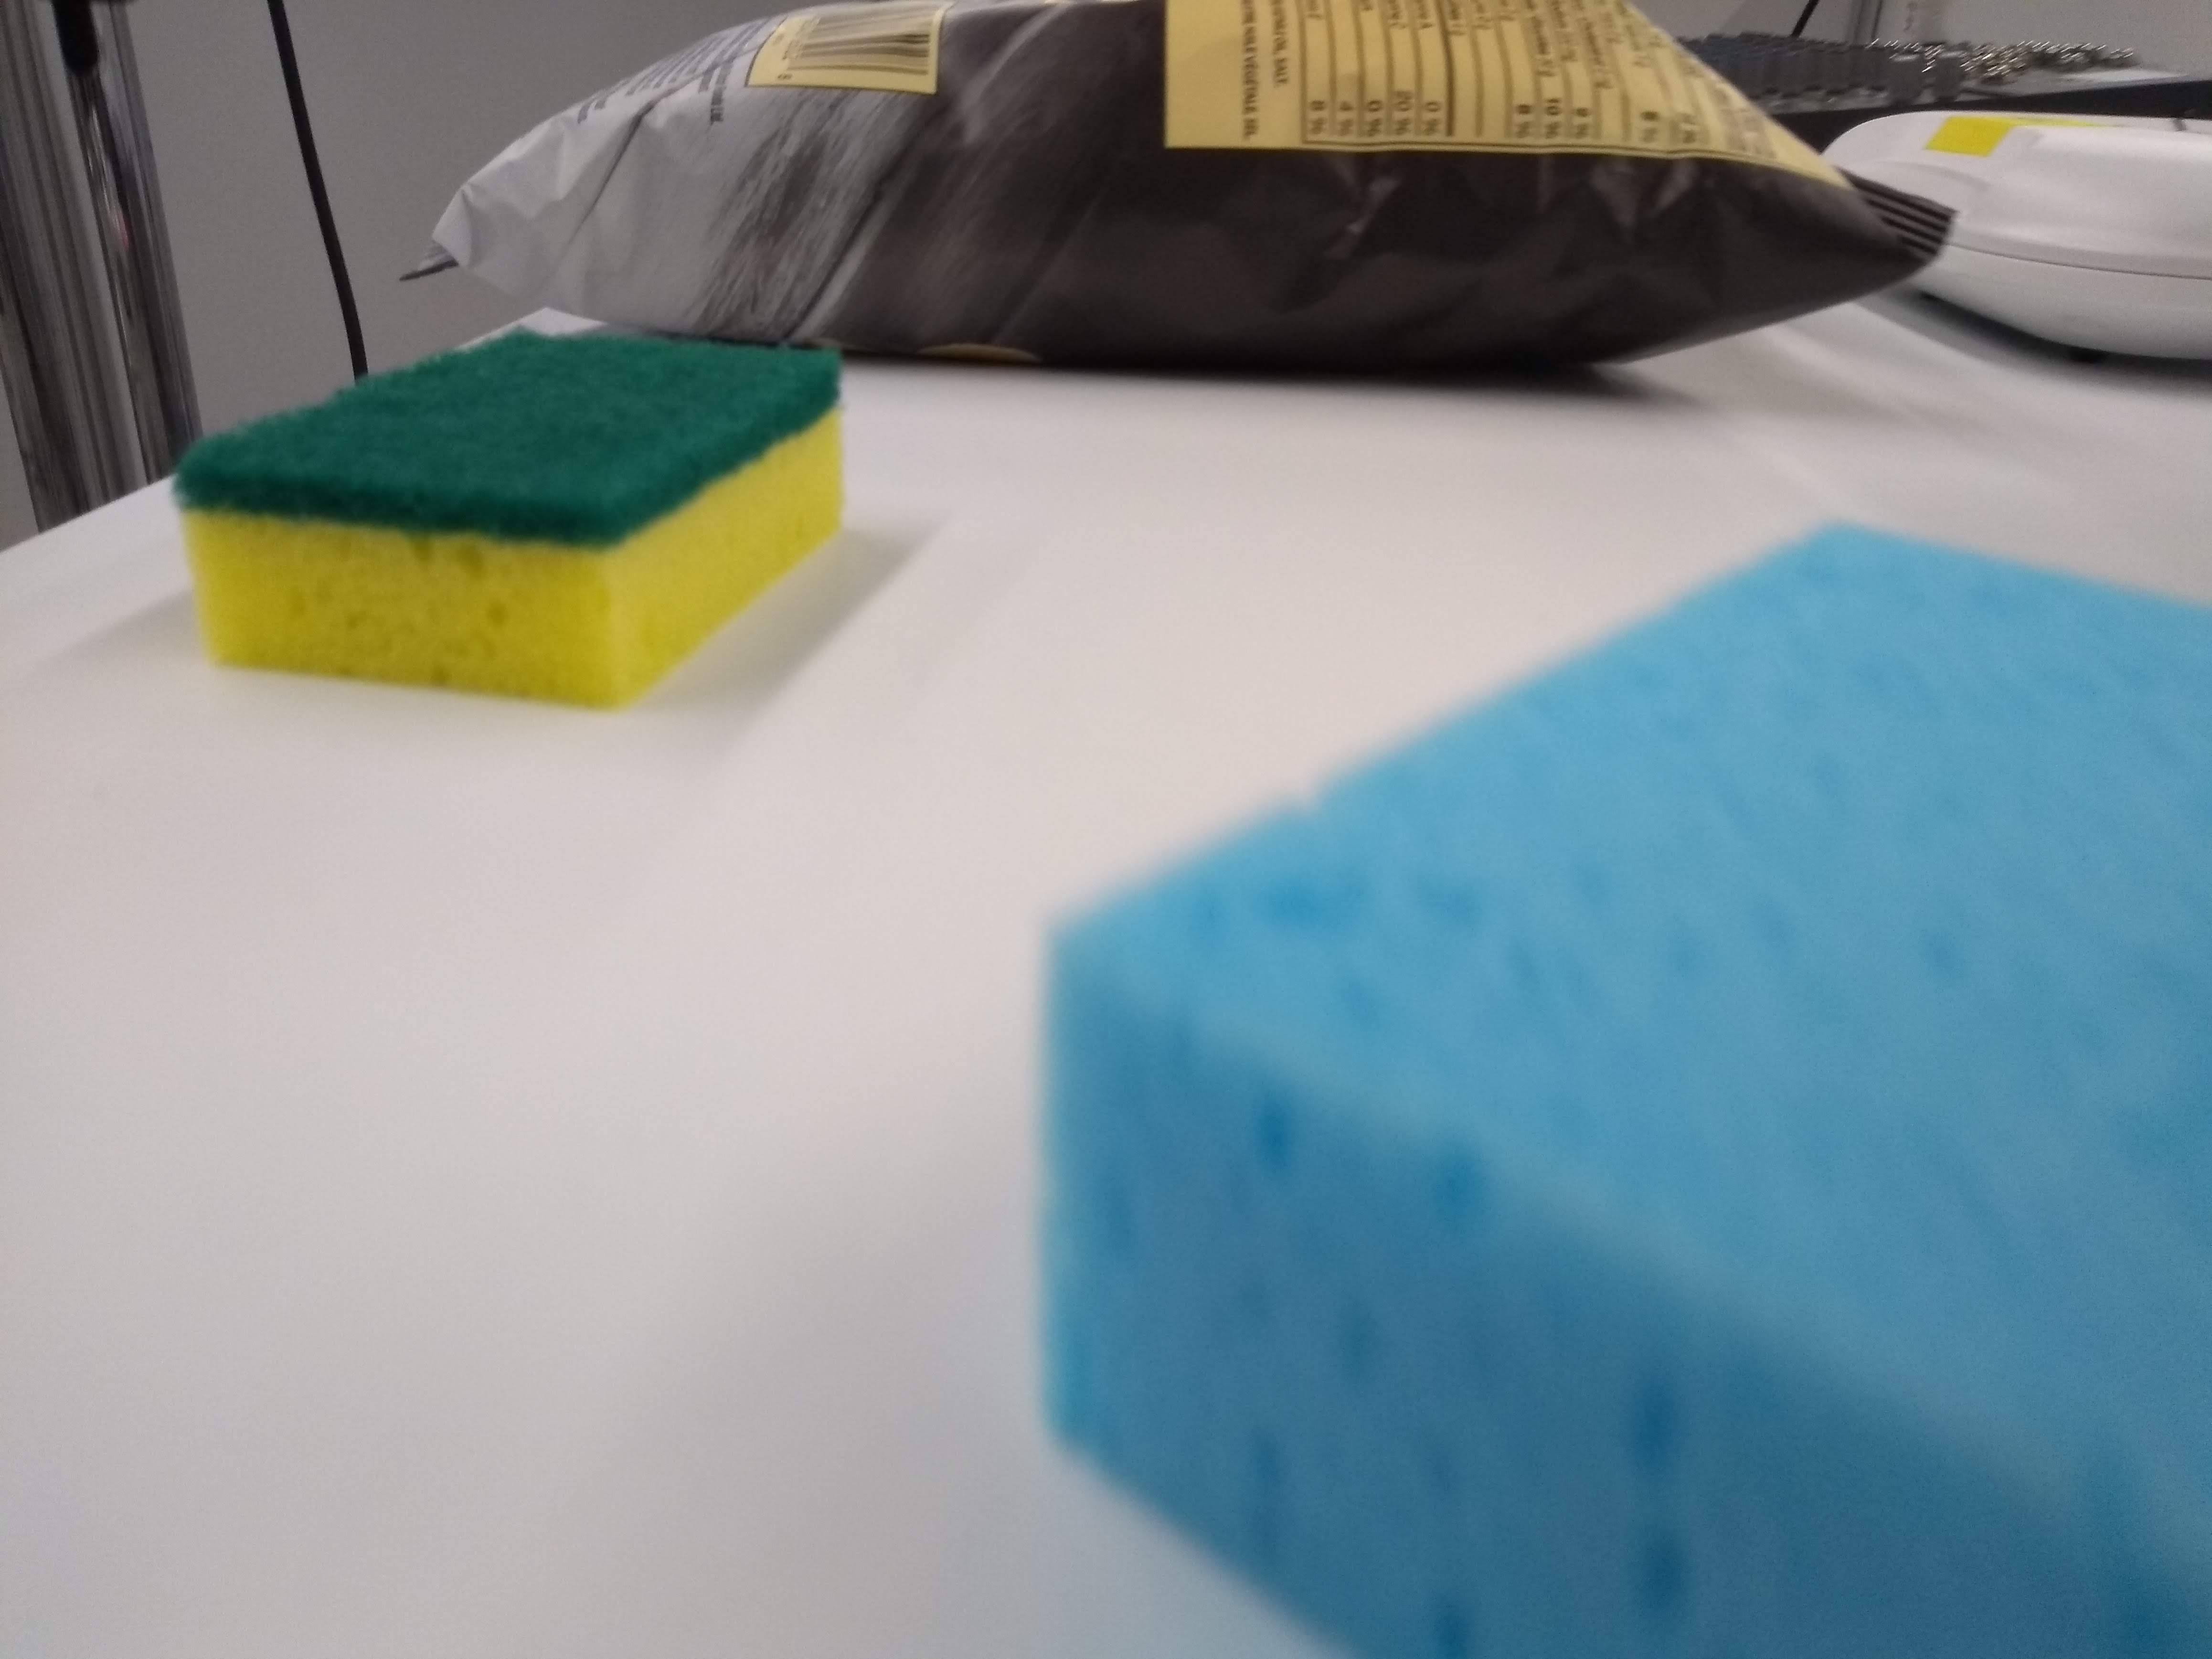potato_chips: (402, 0, 1970, 359)
scrubby: (162, 308, 876, 716)
